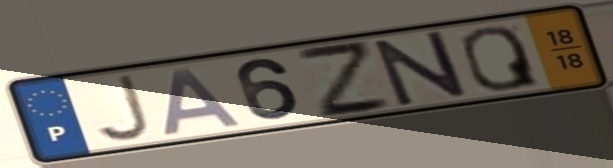6: (233, 56, 305, 123)
A: (160, 65, 247, 138)
J: (91, 72, 154, 144)
N: (369, 28, 473, 110)
Q: (457, 24, 544, 93)
Z: (291, 40, 399, 122)
